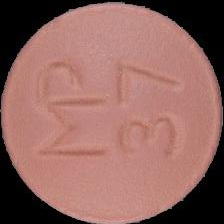48433-100: (0, 0, 224, 224)
